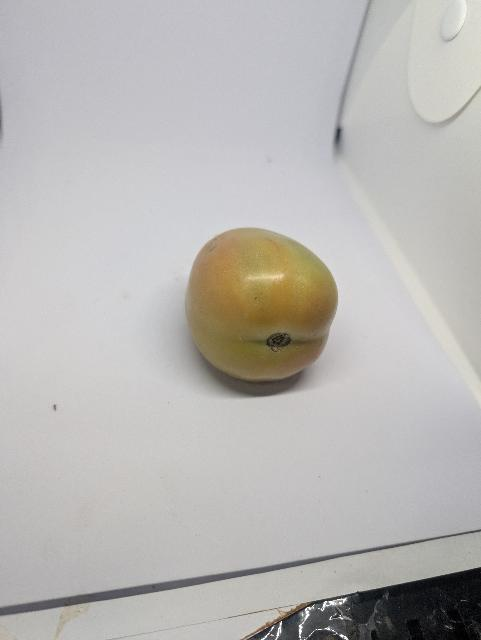breaker: (185, 215, 345, 389)
